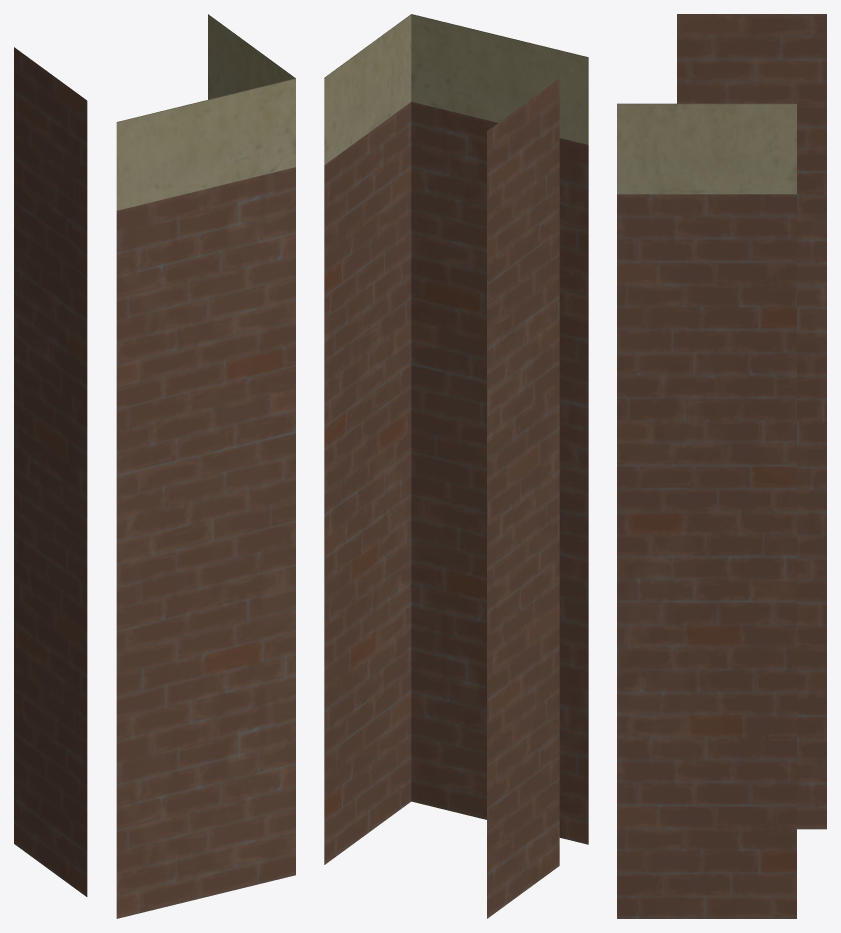
The model's file is brick_toptrim_90angle_l.glb.
3 views of the same model, side by side, from view 1: azimuth 30°, elevation 25°; view 2: azimuth 150°, elevation 25°; view 3: azimuth 270°, elevation 25° (orthographic). The views are drawn at different scales.
Visible parts, largest first — view 1: Brick_TopTrim_90Angle_L; view 2: Brick_TopTrim_90Angle_L; view 3: Brick_TopTrim_90Angle_L.
Part boxes in pixels (left/top/right/bottom): Brick_TopTrim_90Angle_L: left=14, top=14, right=295, bottom=918; Brick_TopTrim_90Angle_L: left=324, top=14, right=588, bottom=918; Brick_TopTrim_90Angle_L: left=617, top=14, right=826, bottom=918.
Size of the model in its own units: 0.7062 by 3 by 0.7.
3 materials, 3 textured.
